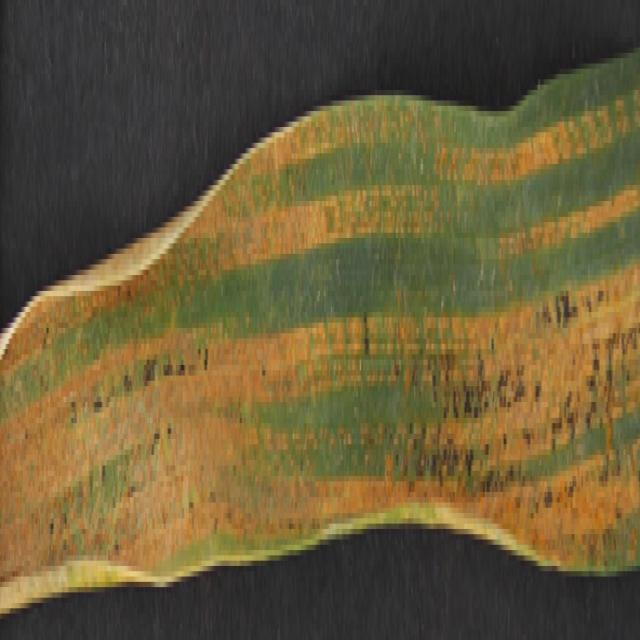leaf rust: (1, 48, 640, 603)
